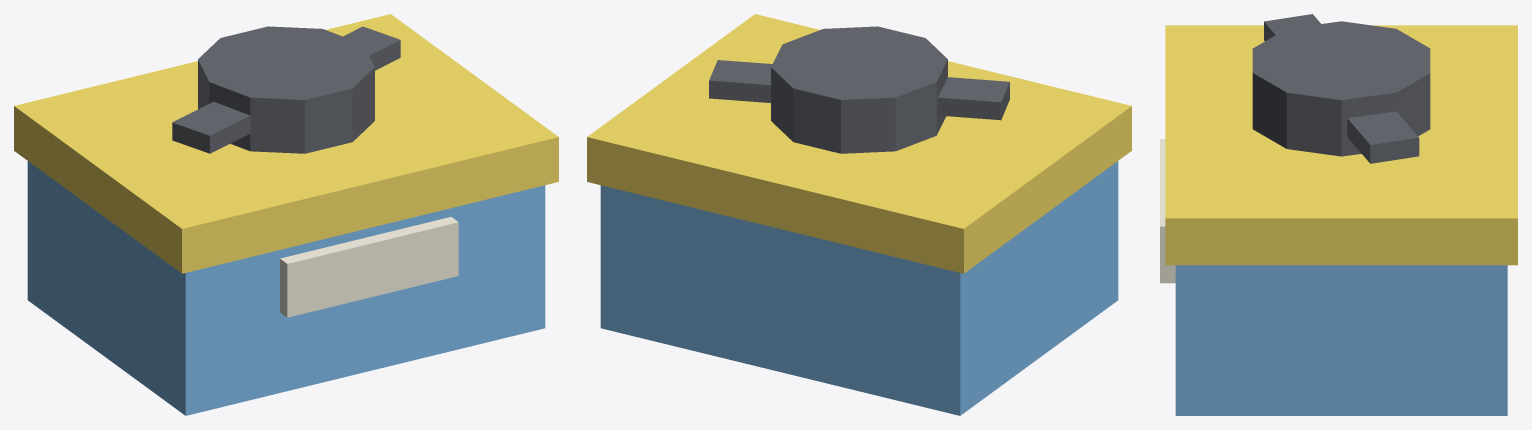
Rendered from lawn-mowing-simulator-kit-mulch-kit-box-96ae1305__27358.glb.
3 views of the same model, side by side, from view 1: azimuth 30°, elevation 25°; view 2: azimuth 150°, elevation 25°; view 3: azimuth 270°, elevation 25° (orthographic). The views are drawn at different scales.
Visible parts, largest first — view 1: mulch-kit-box; view 2: mulch-kit-box; view 3: mulch-kit-box.
Boxes of the visible parts, <box> form: mulch-kit-box: <box>14,14,558,415</box>; mulch-kit-box: <box>587,14,1131,415</box>; mulch-kit-box: <box>1160,14,1517,415</box>.
Bounding box in the file's own units: 0.44 × 0.28 × 0.345.
